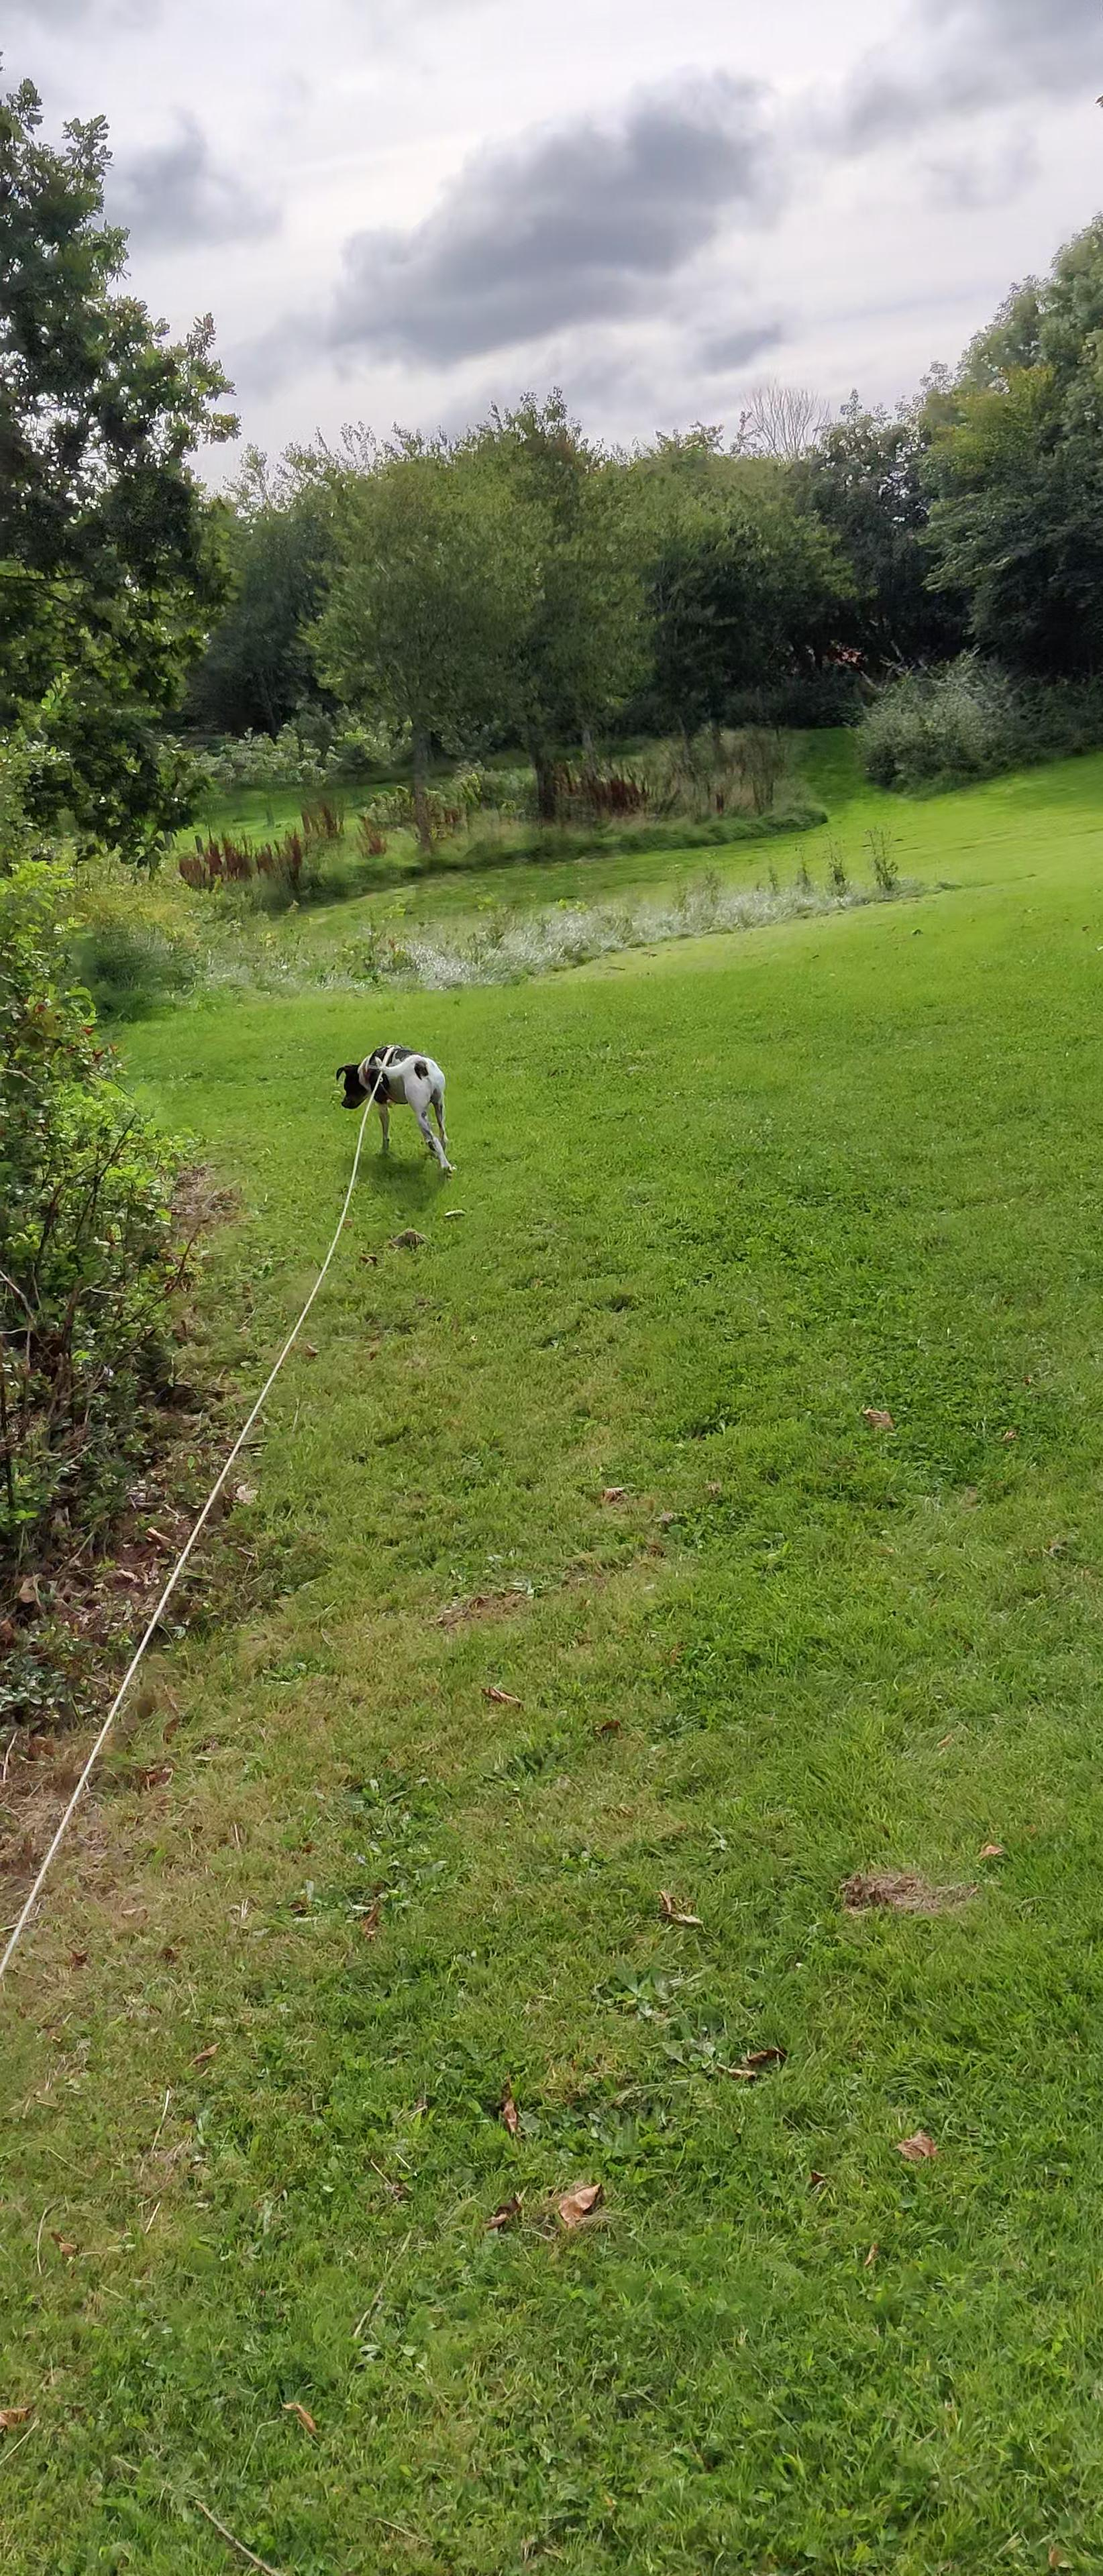Dog: (329, 1037, 457, 1171)
